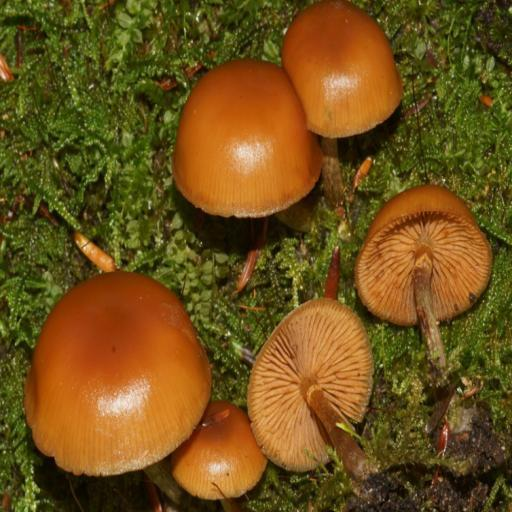mushroom: (20, 260, 383, 508), (165, 2, 405, 223)
